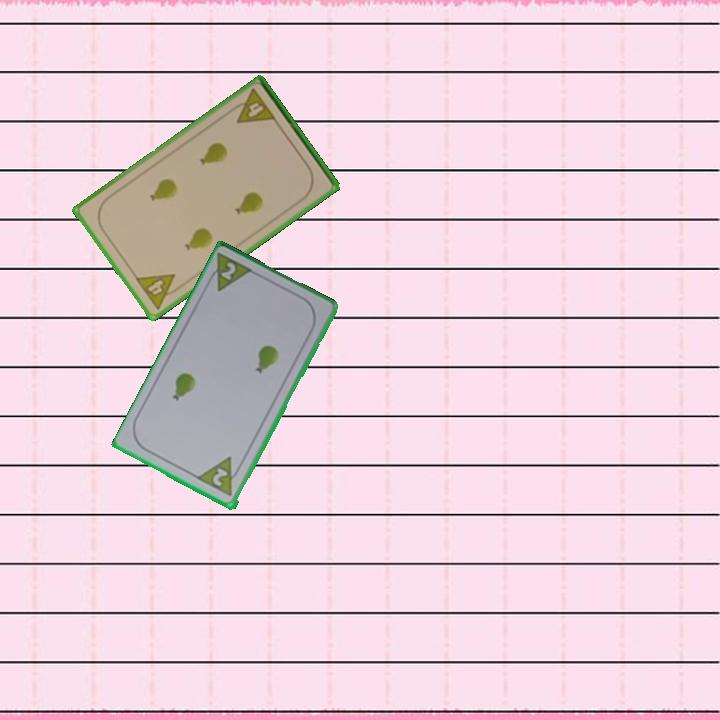2p: (209, 465, 231, 490), (217, 259, 239, 284)
4p: (132, 270, 185, 313), (226, 85, 279, 127)
